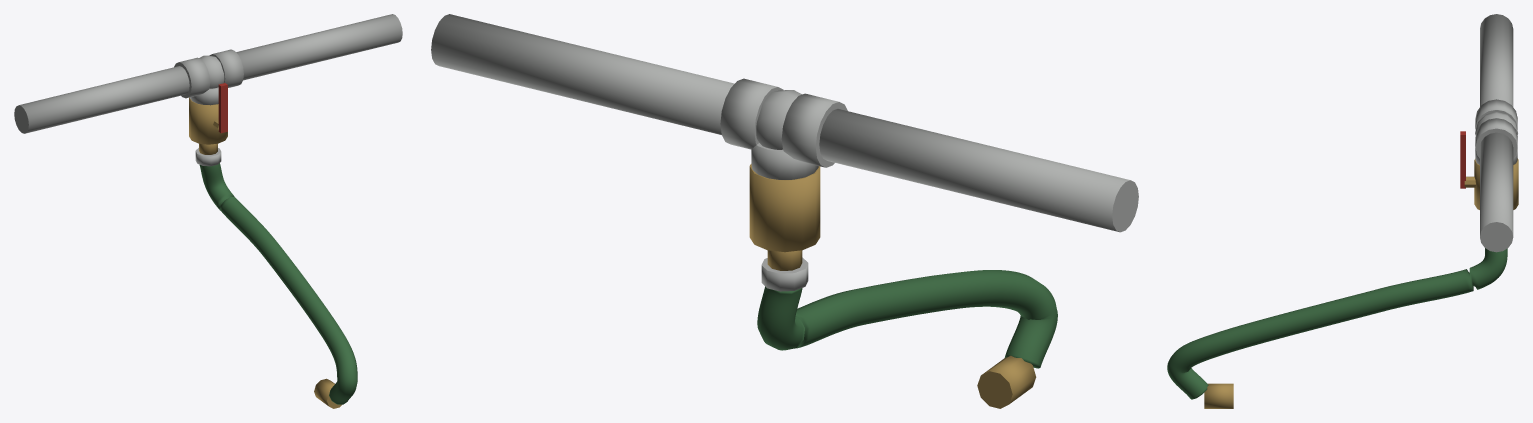
The model's file is barrel_fill_low_tee.obj.
The picture shows the model from 3 angles, left to right: view 1: azimuth 30°, elevation 25°; view 2: azimuth 150°, elevation 25°; view 3: azimuth 270°, elevation 25°; orthographic projection. The views are drawn at different scales.
Visible parts, largest first — view 1: hose, pipe8, pipe2, valve_body, elbow_socket8, elbow_socket2, elbow_hub, valve_lever, nozzle, elbow_socket1; view 2: pipe8, pipe2, hose, valve_body, elbow_socket8, elbow_socket2, nozzle, elbow_hub, elbow_socket1, hose_collar, hose_barb; view 3: hose, pipe2, pipe8, elbow_socket2, nozzle, elbow_socket8, valve_body, valve_lever.
Boxes of the visible parts, x1,y1,x2,y2 form: hose: [199, 163, 357, 404]; pipe8: [14, 66, 189, 133]; pipe2: [236, 14, 402, 80]; valve_body: [189, 97, 227, 144]; elbow_socket8: [174, 57, 210, 98]; elbow_socket2: [209, 49, 243, 87]; elbow_hub: [199, 55, 224, 88]; valve_lever: [218, 83, 227, 133]; nozzle: [314, 378, 341, 408]; elbow_socket1: [190, 87, 218, 105]; pipe8: [819, 109, 1138, 232]; pipe2: [431, 14, 734, 134]; hose: [757, 270, 1057, 368]; valve_body: [749, 164, 820, 252]; elbow_socket8: [781, 93, 847, 167]; elbow_socket2: [720, 78, 783, 149]; nozzle: [977, 355, 1036, 408]; elbow_hub: [756, 90, 801, 149]; elbow_socket1: [751, 143, 818, 179]; hose_collar: [761, 257, 808, 291]; hose_barb: [767, 250, 802, 270]; hose: [1167, 248, 1507, 399]; pipe2: [1480, 132, 1513, 252]; pipe8: [1480, 14, 1513, 106]; elbow_socket2: [1475, 118, 1517, 158]; nozzle: [1204, 383, 1233, 408]; elbow_socket8: [1475, 99, 1517, 129]; valve_body: [1474, 158, 1518, 209]; valve_lever: [1460, 131, 1465, 188].
Size of the model in its own units: 1 by 0.6586 by 0.7142.
Materials: 4 (4 with a texture image).
